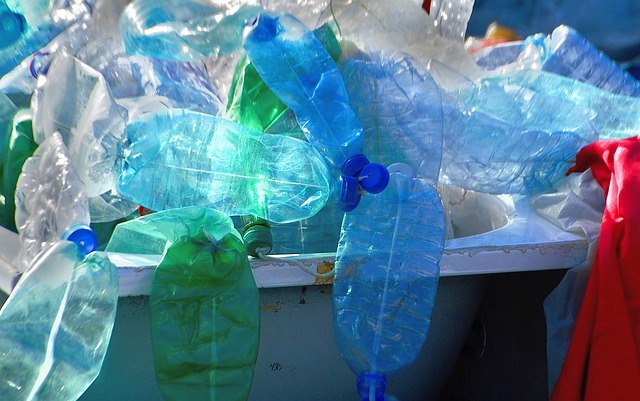plastic_bottle: (115, 113, 361, 223), (328, 214, 448, 399), (144, 226, 268, 401)
